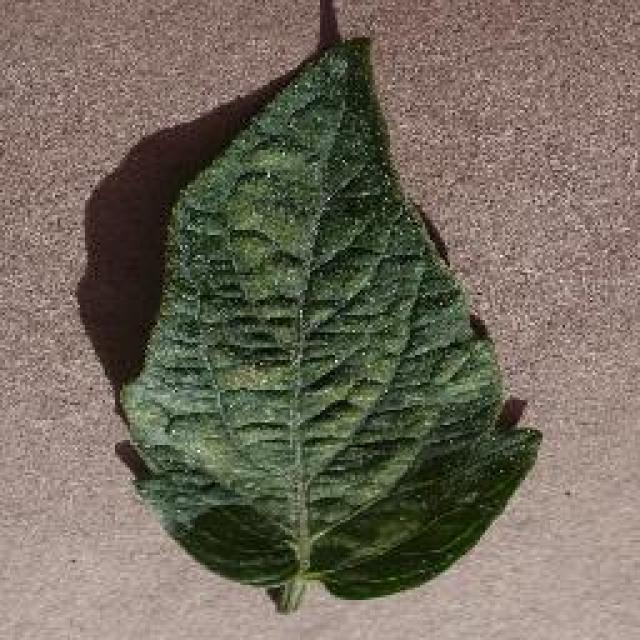Tomato___Spider_mites Two-spotted_spider_mite: (120, 38, 540, 612)
